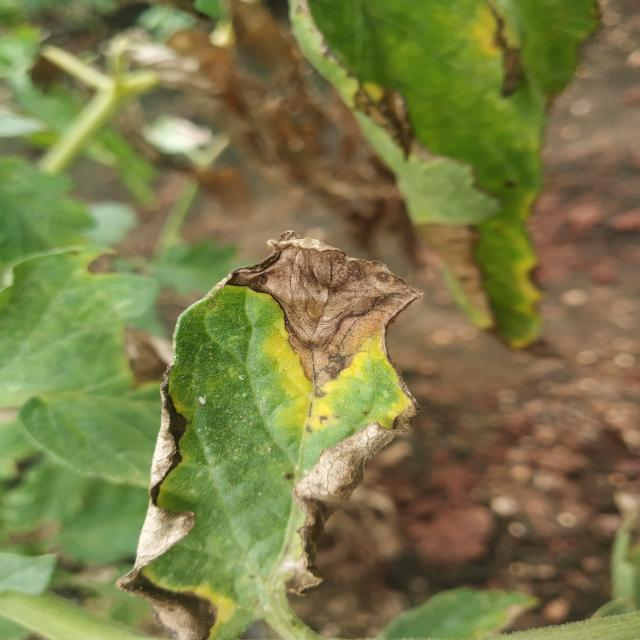Tomato mosaic virus leaf: (106, 226, 434, 640)
